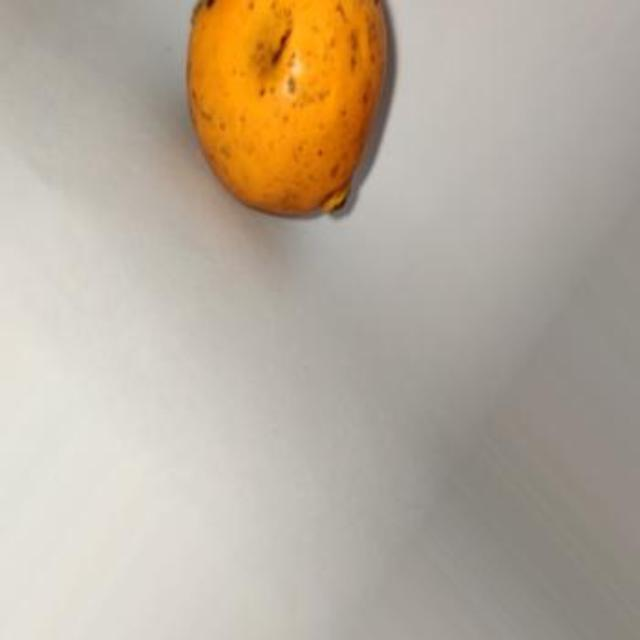good: (185, 0, 393, 219)
